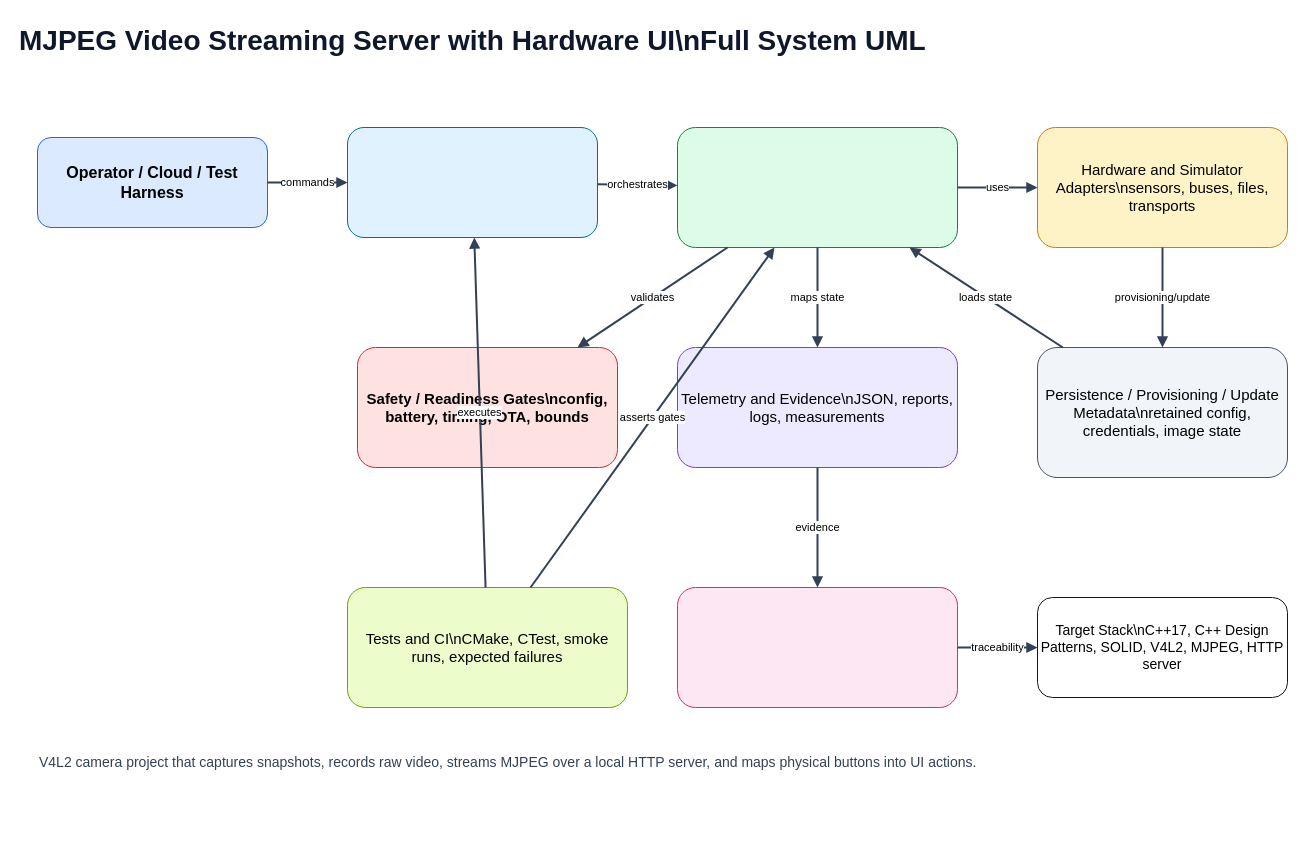
Some shapes in this 1305 by 844 pixel diagram are drawn without their labels. The box of each missing label's shape, as (x1, y1, x2, y2) in pixels:
Application Entry Point\nCLI, firmware main, or service launcher: (346, 126, 598, 238)
Documentation Package\nREADME, architecture, validation plan, UML: (676, 586, 958, 708)
Domain / Control Core\nstate model, policy, orchestration: (676, 126, 958, 248)
